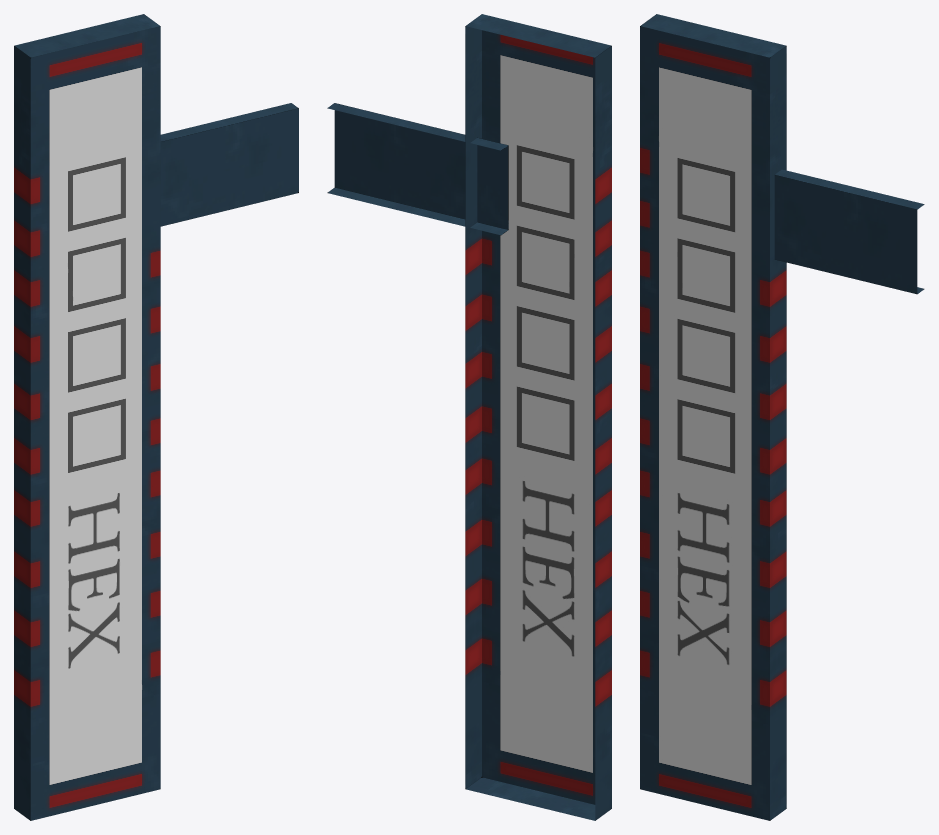
The model's file is L Big SideBillboard .fbx.
3 renders of one model, left to right at view 1: azimuth 30°, elevation 25°; view 2: azimuth 150°, elevation 25°; view 3: azimuth 330°, elevation 25°, orthographic.
Visible parts, largest first — view 1: polySurface5; view 2: polySurface5; view 3: polySurface5.
Part boxes in pixels (x1,y1,x2,y2): polySurface5: (14, 14, 298, 820); polySurface5: (327, 14, 611, 820); polySurface5: (640, 14, 924, 820).
Bounding box in the file's own units: 10.6 × 28.36 × 1.11.
